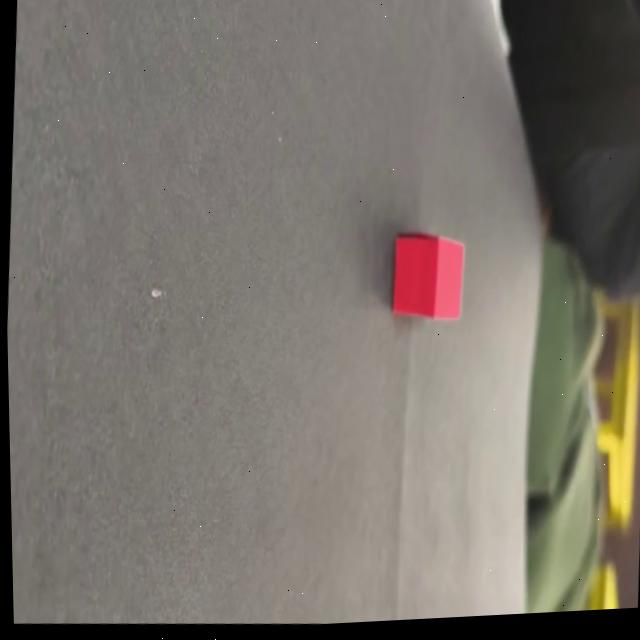red block: (389, 228, 468, 325)
